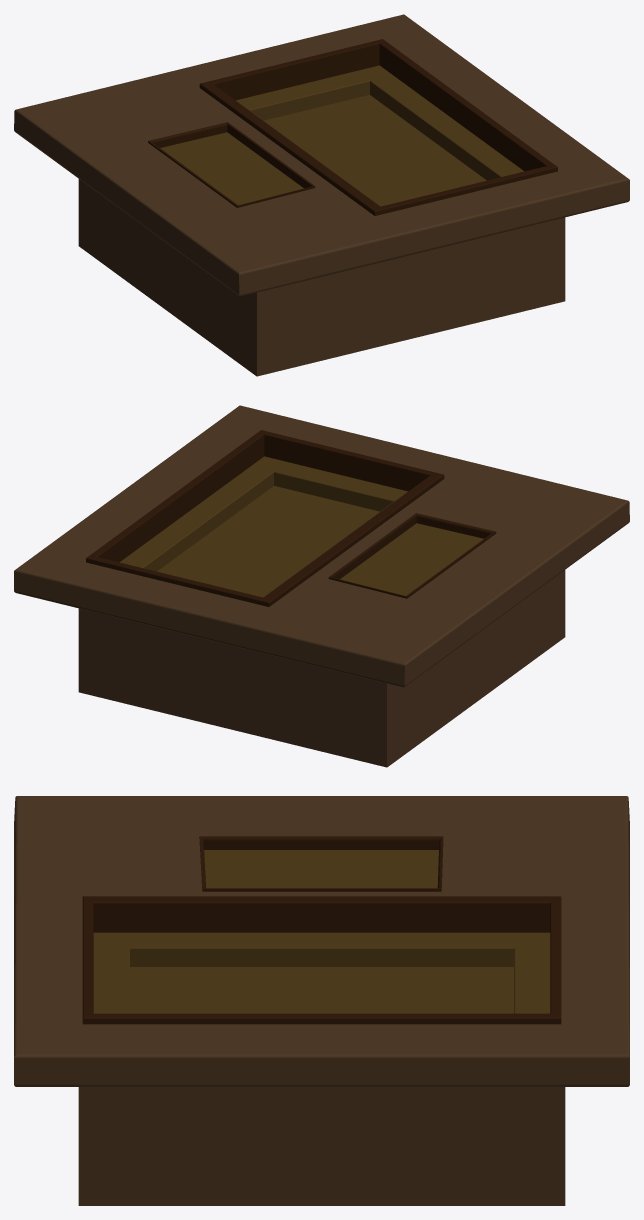
Rendered from Mesa3.fbx.
The picture shows the model from 3 angles, top to bottom: view 1: azimuth 30°, elevation 25°; view 2: azimuth 150°, elevation 25°; view 3: azimuth 270°, elevation 25°; orthographic projection. The views are drawn at different scales.
Parts seen in each view (by area): view 1: Cube; view 2: Cube; view 3: Cube.
Boxes of the visible parts, x1,y1,x2,y2 form: Cube: (14, 14, 629, 376); Cube: (14, 405, 629, 767); Cube: (14, 796, 629, 1205).
Size of the model in its own units: 290 by 95.64 by 290.
